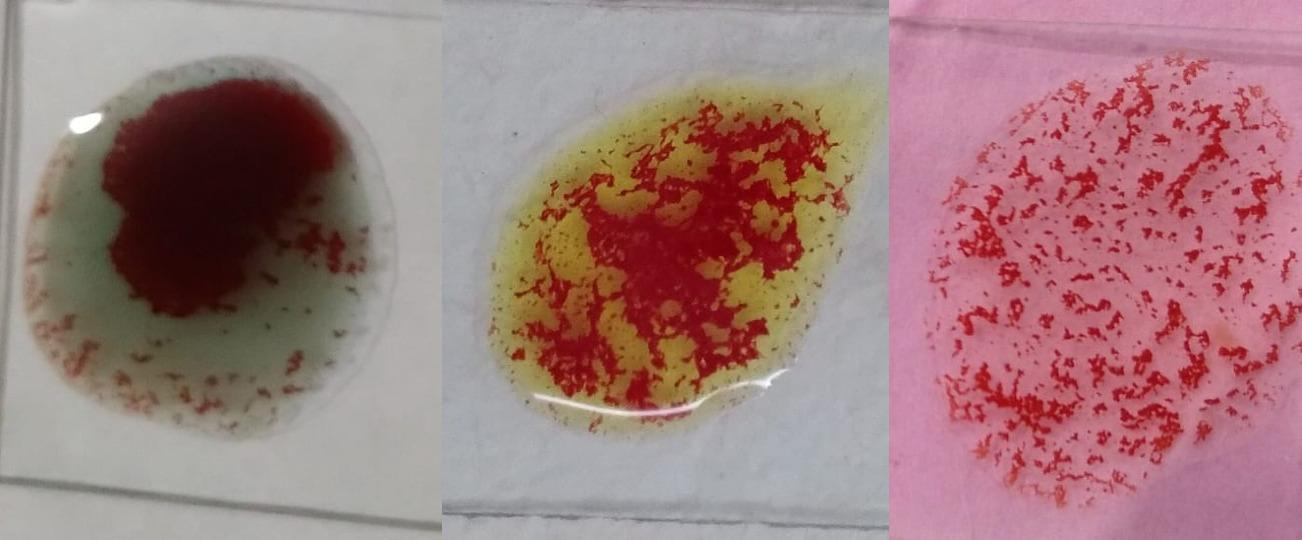A: (33, 65, 389, 408)
B: (496, 74, 851, 438)
D: (950, 55, 1269, 485)
